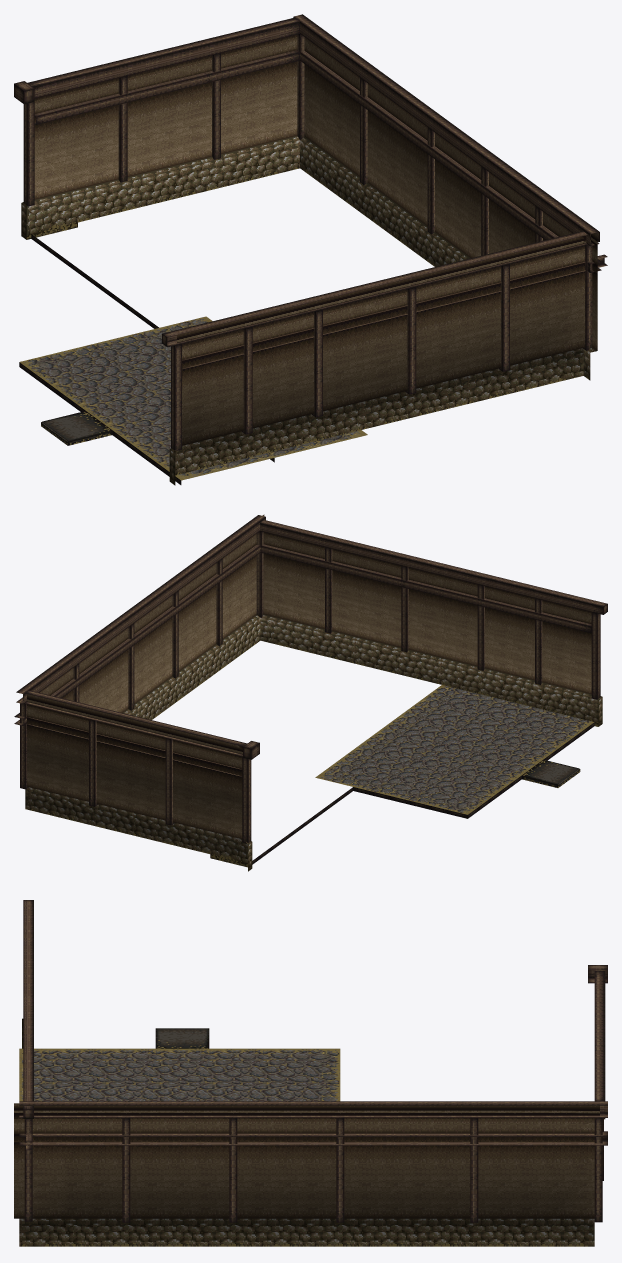
The model's file is EnvBdgMD_Desert_B_Indoor_Orphanage.FBX.
3 views of the same model, one above another, from view 1: azimuth 30°, elevation 25°; view 2: azimuth 150°, elevation 25°; view 3: azimuth 270°, elevation 25° (orthographic). The views are drawn at different scales.
Parts seen in each view (by area): view 1: EnvBdgMD_Desert_B_Indoor_Orphanage; view 2: EnvBdgMD_Desert_B_Indoor_Orphanage; view 3: EnvBdgMD_Desert_B_Indoor_Orphanage.
Part boxes in pixels (bbox=[...]): EnvBdgMD_Desert_B_Indoor_Orphanage: bbox=[14, 14, 607, 485]; EnvBdgMD_Desert_B_Indoor_Orphanage: bbox=[14, 514, 607, 871]; EnvBdgMD_Desert_B_Indoor_Orphanage: bbox=[14, 900, 607, 1246].
Size of the model in its own units: 2030 by 625 by 2220.
